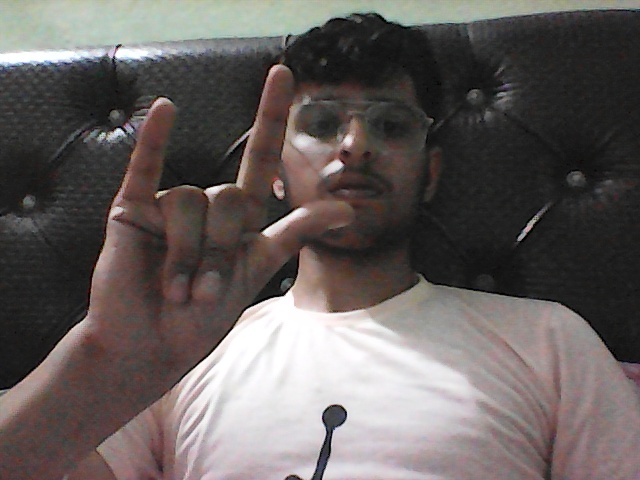iloveyou: (61, 38, 374, 451)
